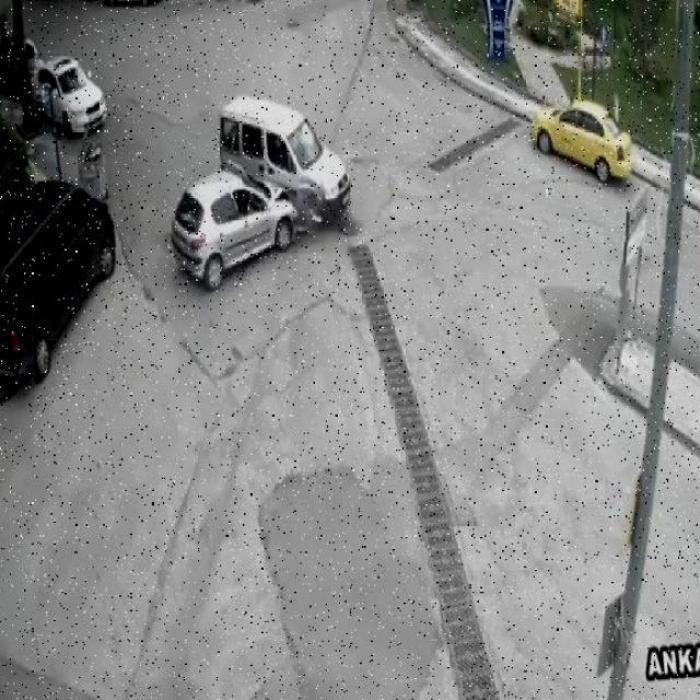Accident: (152, 79, 359, 296)
